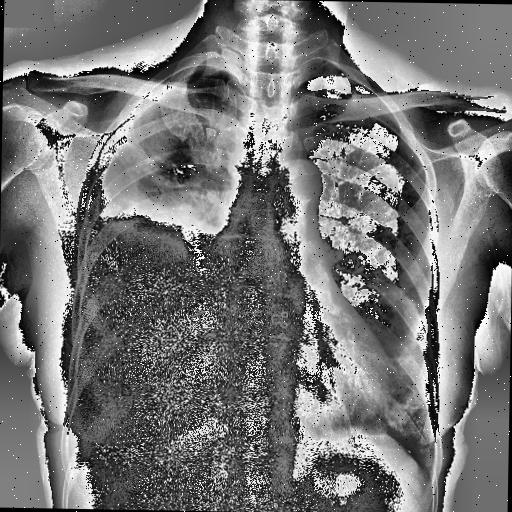0- Aortic enlargement: (272, 158, 325, 200)
10- Pleural effusion: (70, 81, 235, 421), (72, 64, 236, 404), (72, 198, 224, 416)
11- Pleural thickening: (88, 64, 228, 216)
7- Lung Opacity: (100, 88, 216, 226), (104, 82, 212, 218), (361, 310, 430, 442), (382, 312, 430, 434), (132, 186, 216, 234)
